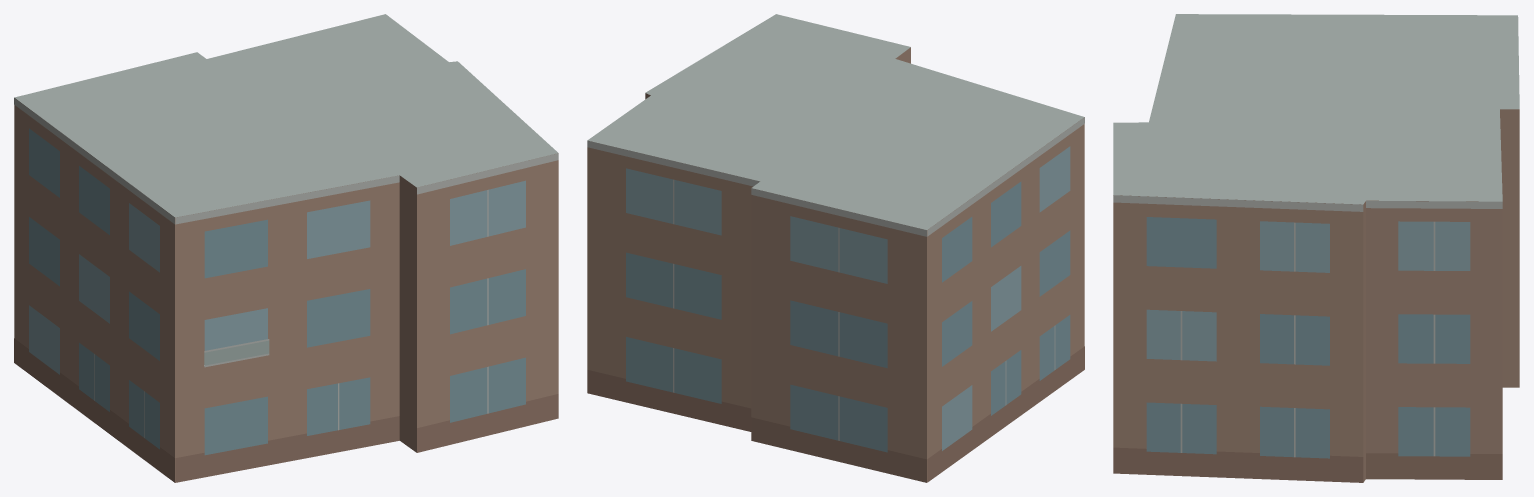
File: survey-upis-32824596.glb
3 views of the same model, side by side, from view 1: azimuth 30°, elevation 25°; view 2: azimuth 150°, elevation 25°; view 3: azimuth 270°, elevation 25° (orthographic). The views are drawn at different scales.
Parts seen in each view (by area): view 1: survey-upis-32824596.tmp; view 2: survey-upis-32824596.tmp; view 3: survey-upis-32824596.tmp.
Part boxes in pixels (x1,y1,x2,y2): survey-upis-32824596.tmp: (14, 14, 558, 482); survey-upis-32824596.tmp: (587, 14, 1084, 482); survey-upis-32824596.tmp: (1113, 14, 1519, 482).
Bounding box in the file's own units: 13.44 × 9.15 × 12.12.
